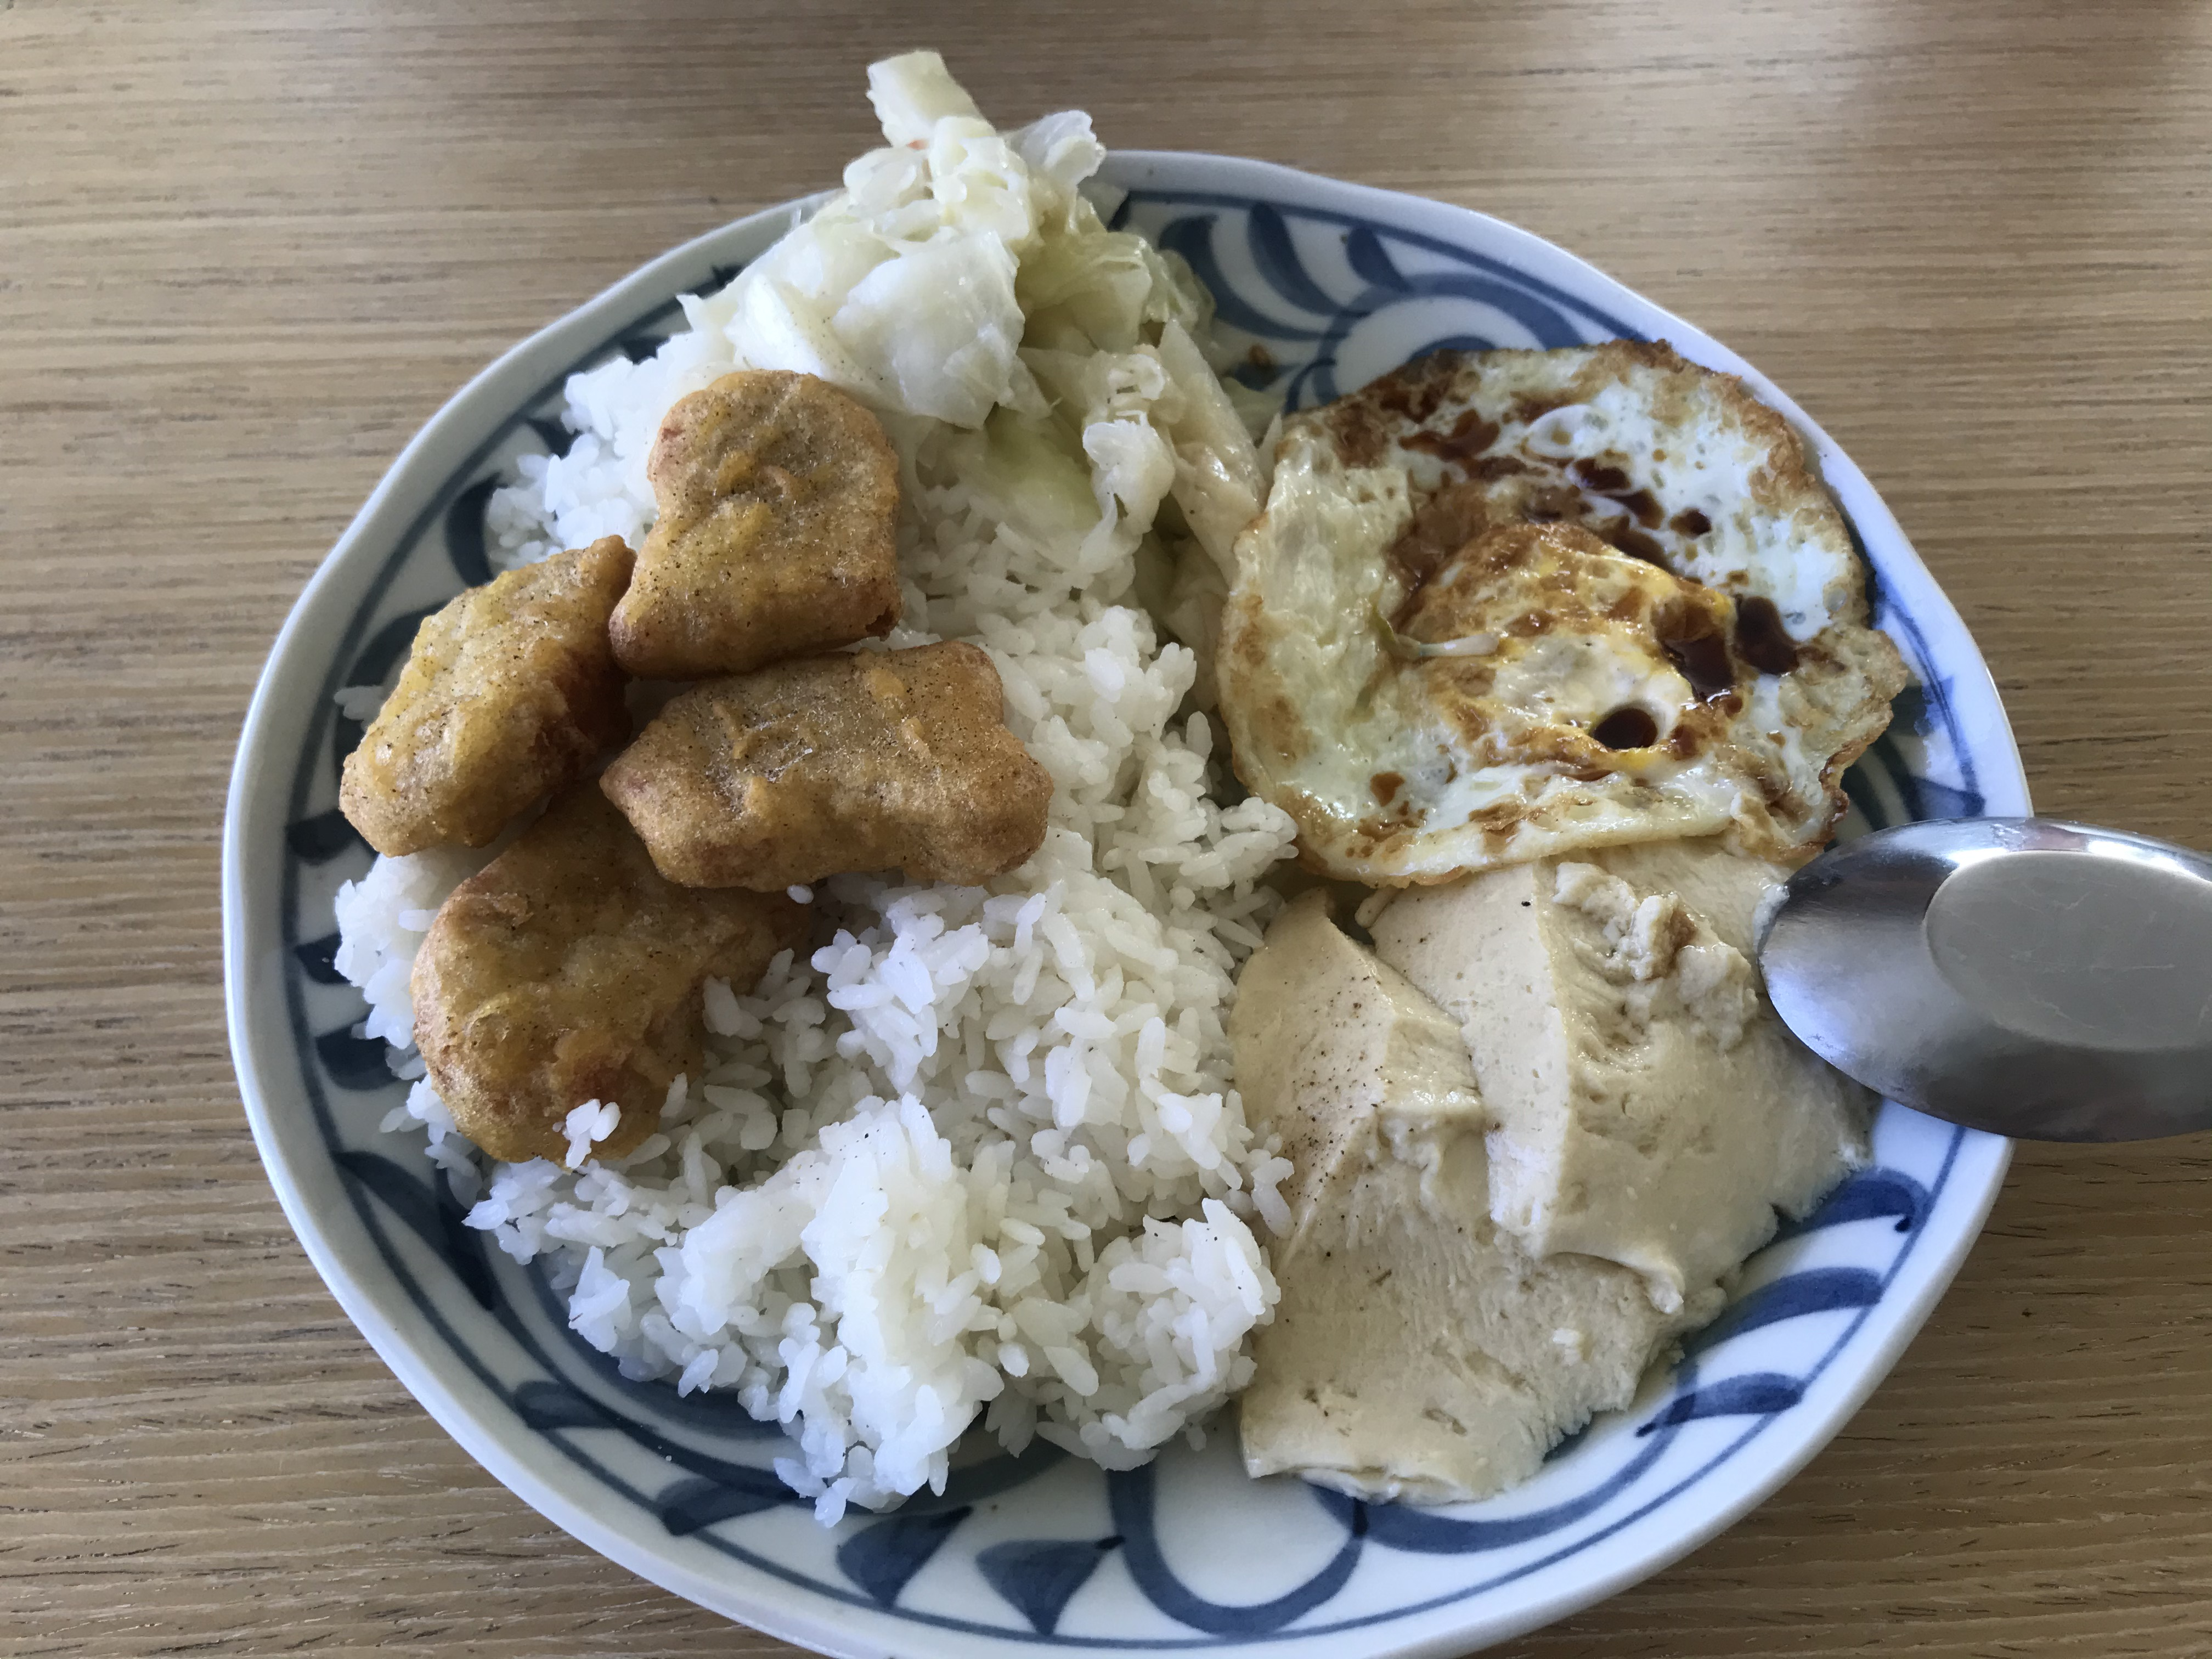chicken_nuggets: (341, 380, 1047, 1162)
chinese_sausage: (763, 73, 1266, 465)
fried_eggs: (1233, 343, 1907, 880)
rice: (712, 894, 1291, 1481)
